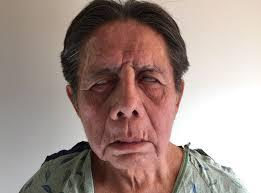strokeEyeSevere: (87, 62, 167, 98)
